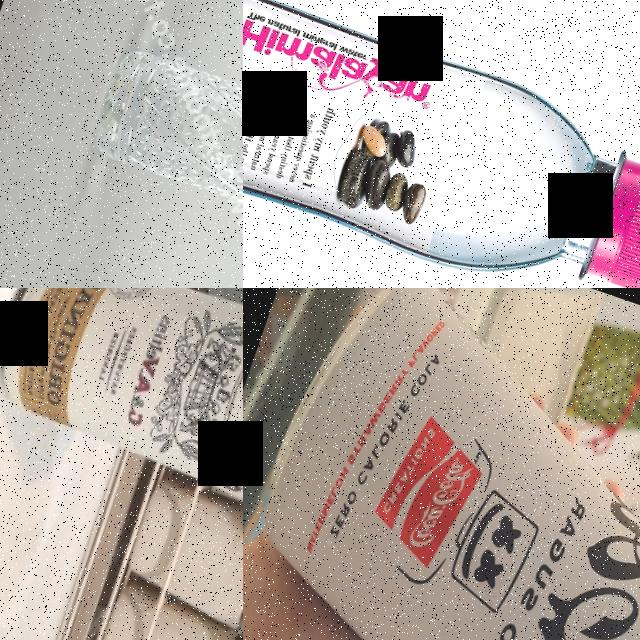bottle: (243, 0, 640, 288), (86, 42, 243, 288)
can: (243, 288, 640, 640), (0, 288, 243, 529)
